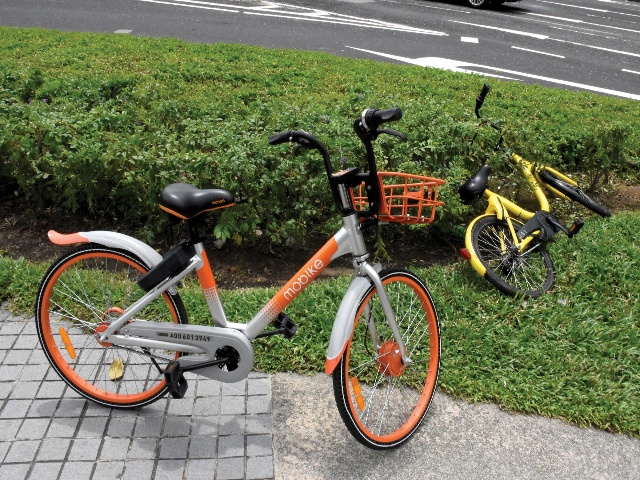Xe_dap: (32, 106, 443, 451)
